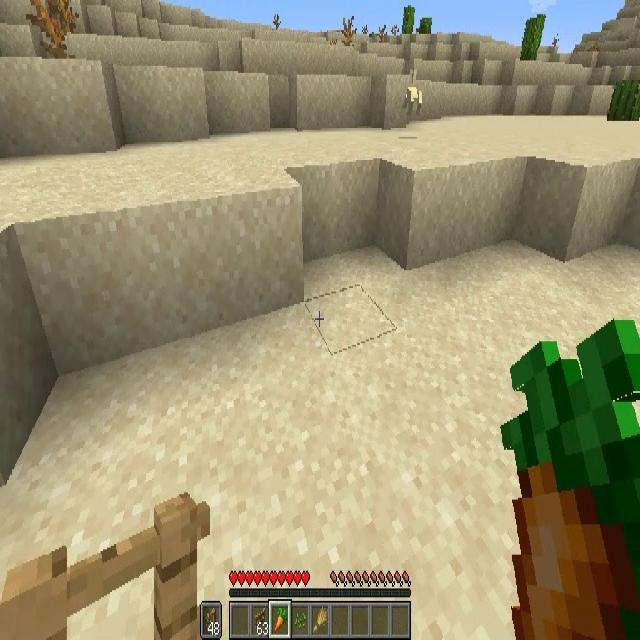rabbit: (402, 70, 422, 116)
